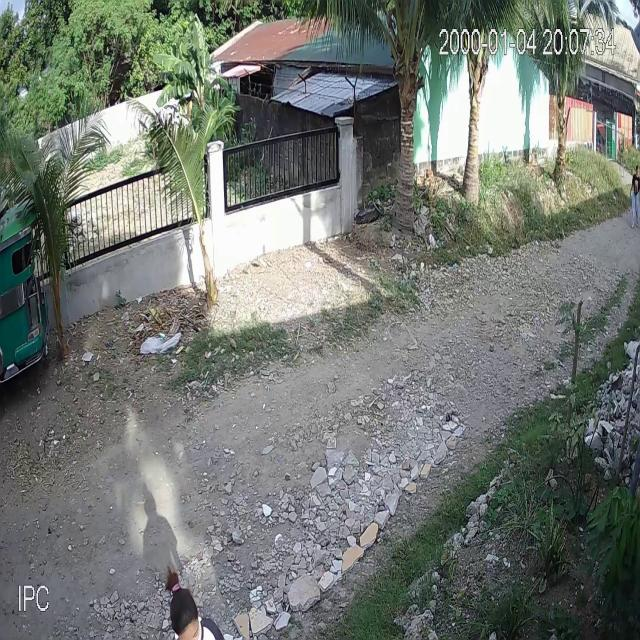walking: (162, 557, 226, 640)
